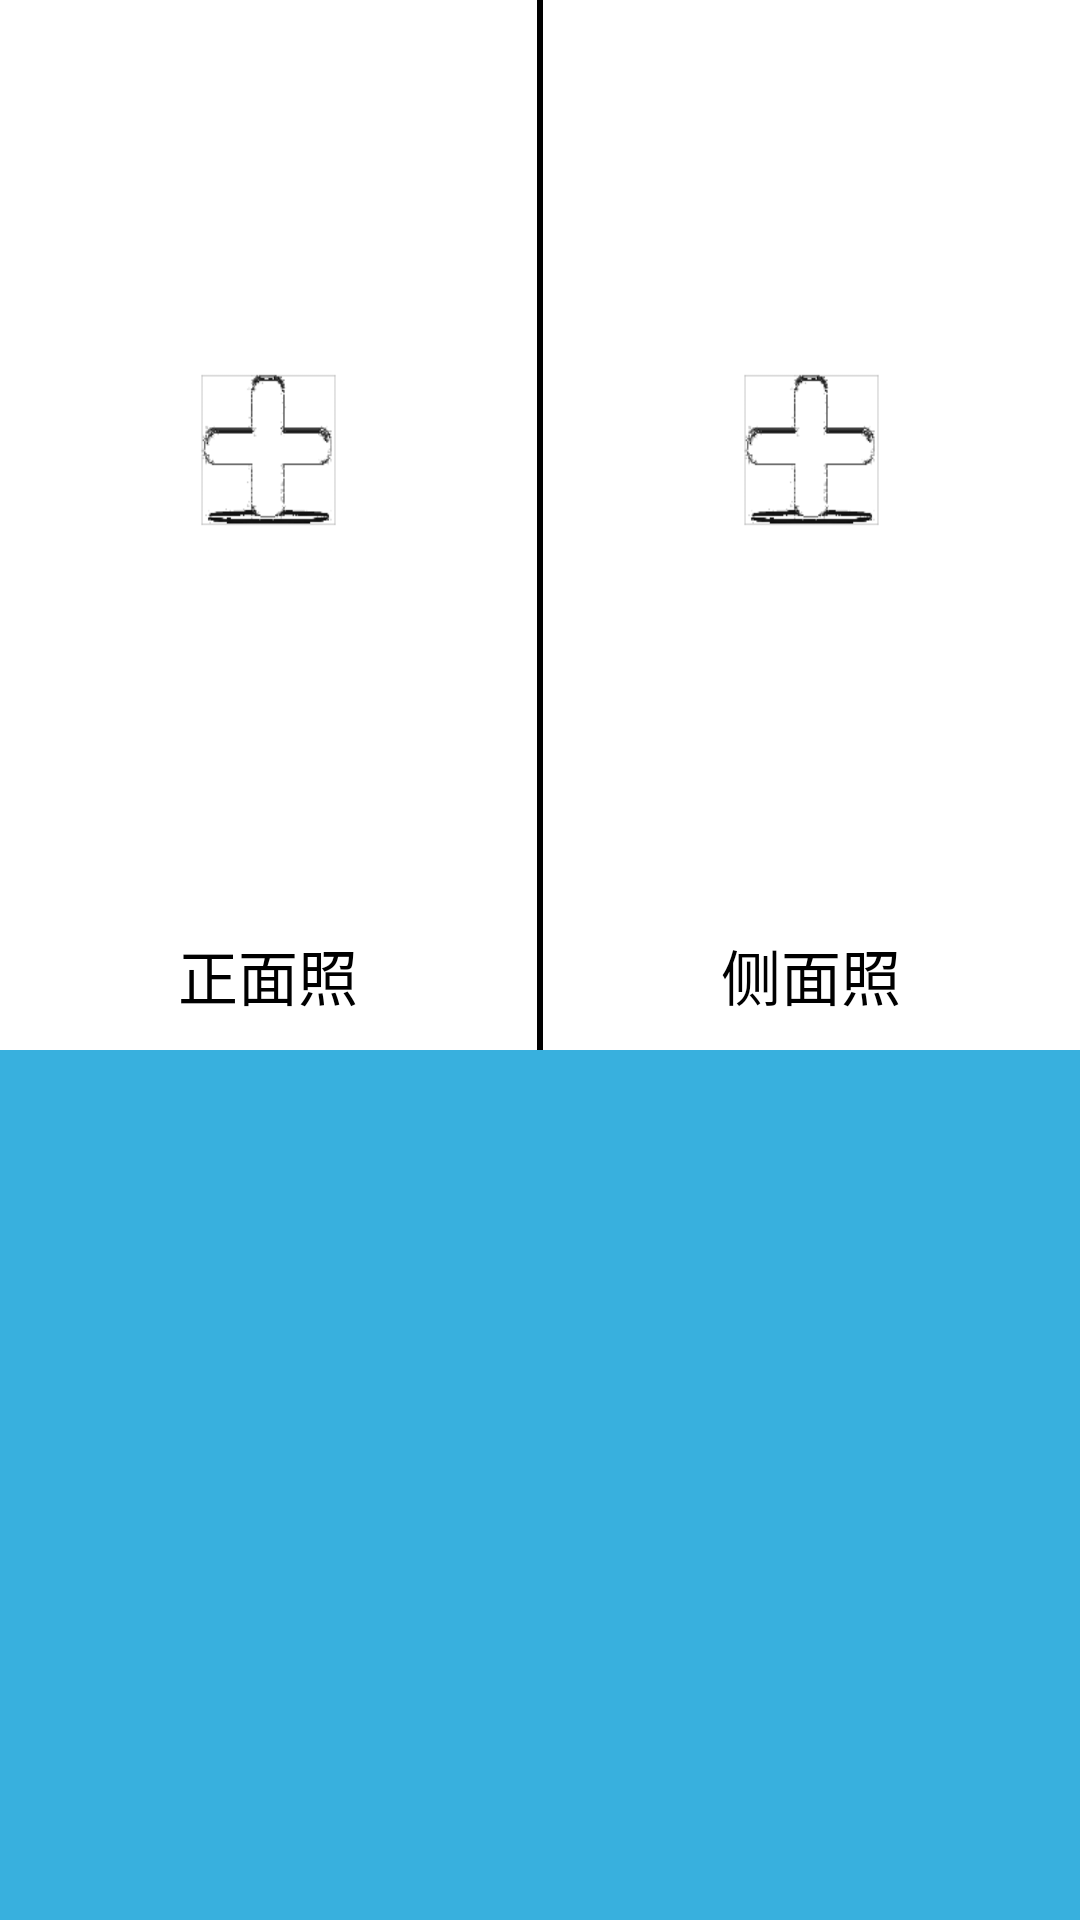

Icon bounding boxes for this 1080 × 1920 phone screenshot, format (x1, y1, x2, y2):
add: (201, 374, 336, 525), (744, 374, 879, 525)
